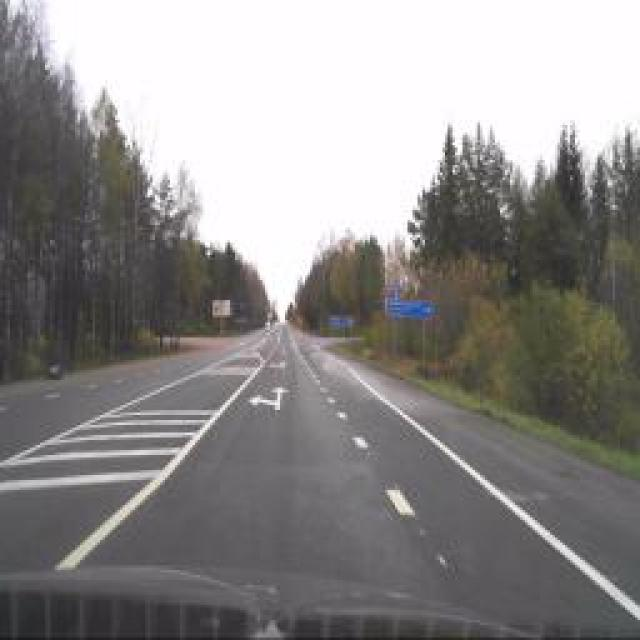sign: (390, 285, 400, 300)
